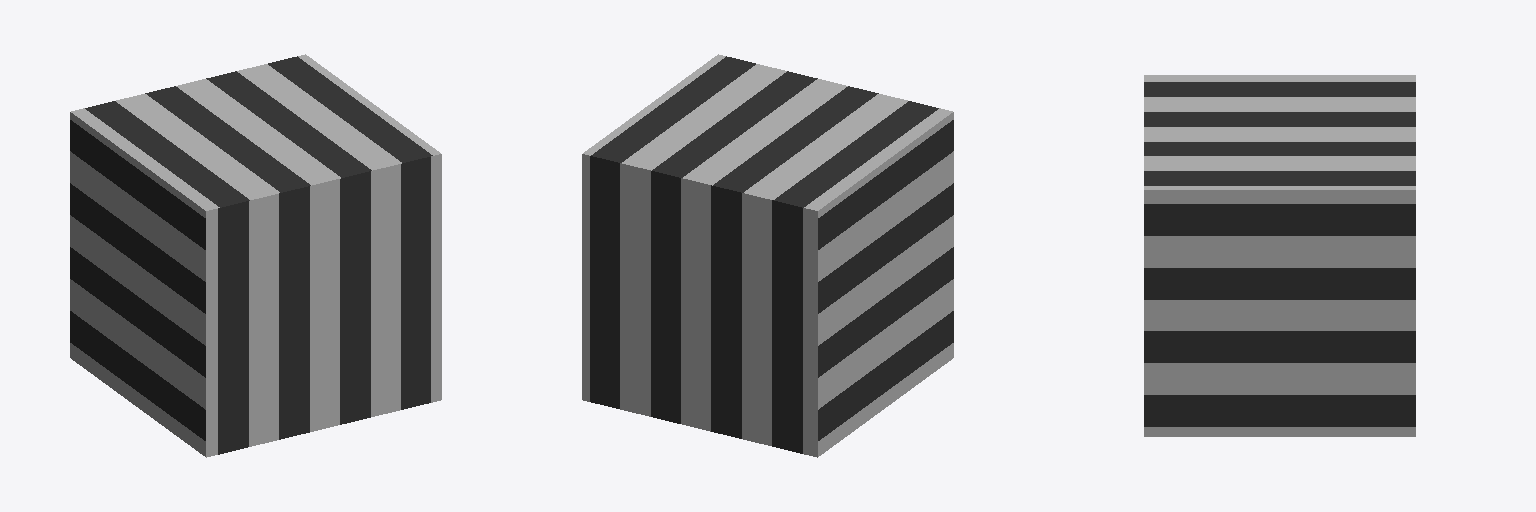
The picture shows the model from 3 angles: view 1: azimuth 30°, elevation 25°; view 2: azimuth 150°, elevation 25°; view 3: azimuth 270°, elevation 25°; orthographic projection.
Parts seen in each view (by area): view 1: c2; view 2: c2; view 3: c2.
Boxes of the visible parts, <box> form: c2: <box>70,54,441,457</box>; c2: <box>582,54,953,457</box>; c2: <box>1144,75,1415,436</box>.
Size of the model in its own units: 2 by 2 by 2.
1 materials, 1 textured.